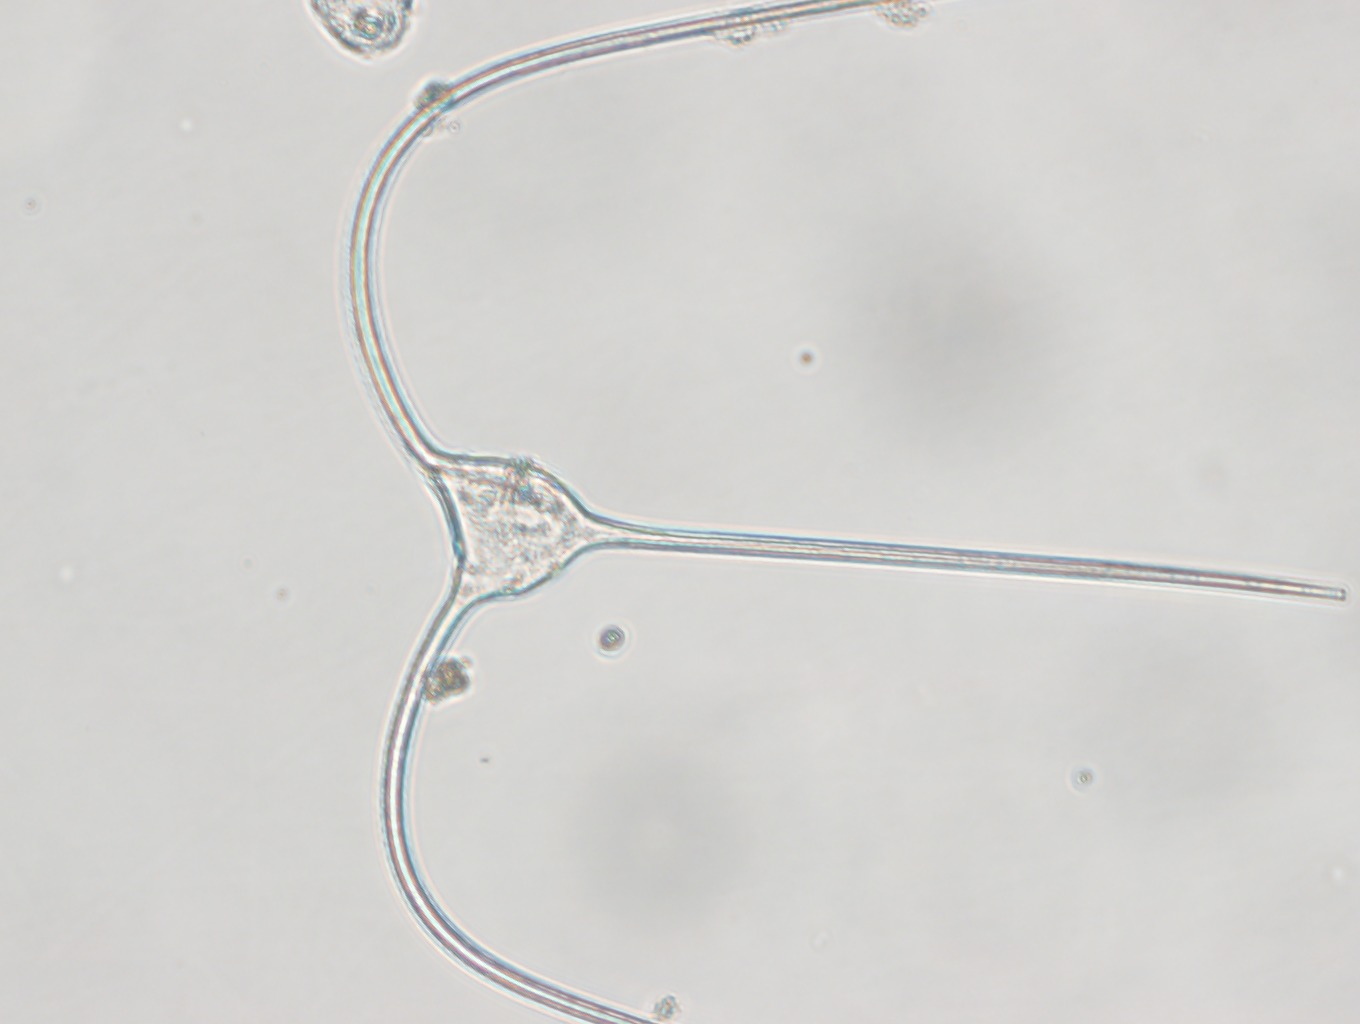ceratium trichoceros: (339, 1, 1348, 1024)
